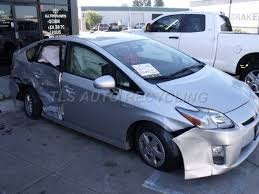Dent: (177, 124, 228, 178), (30, 66, 63, 121)
Smashed: (8, 49, 25, 105)
